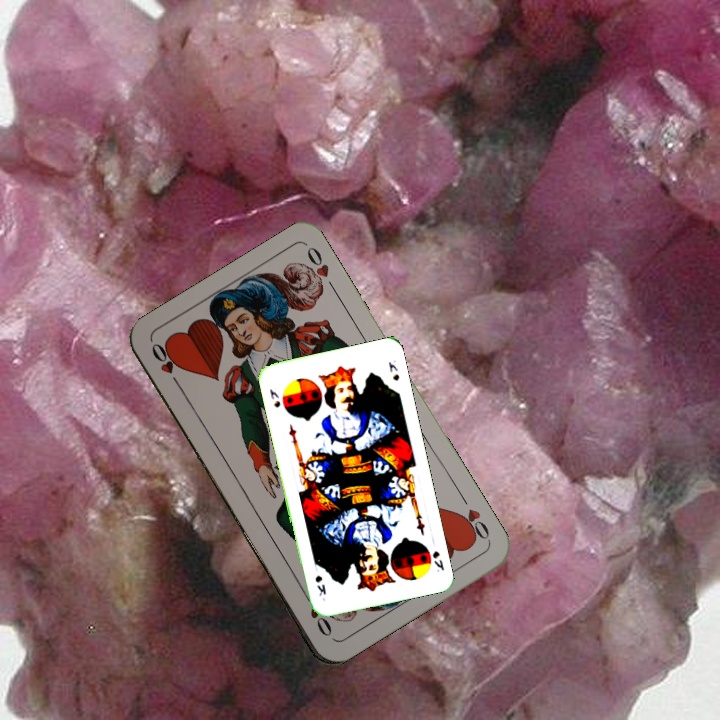HO: (453, 490, 493, 545), (147, 338, 185, 392)
SK: (428, 547, 447, 575), (266, 385, 283, 410)
